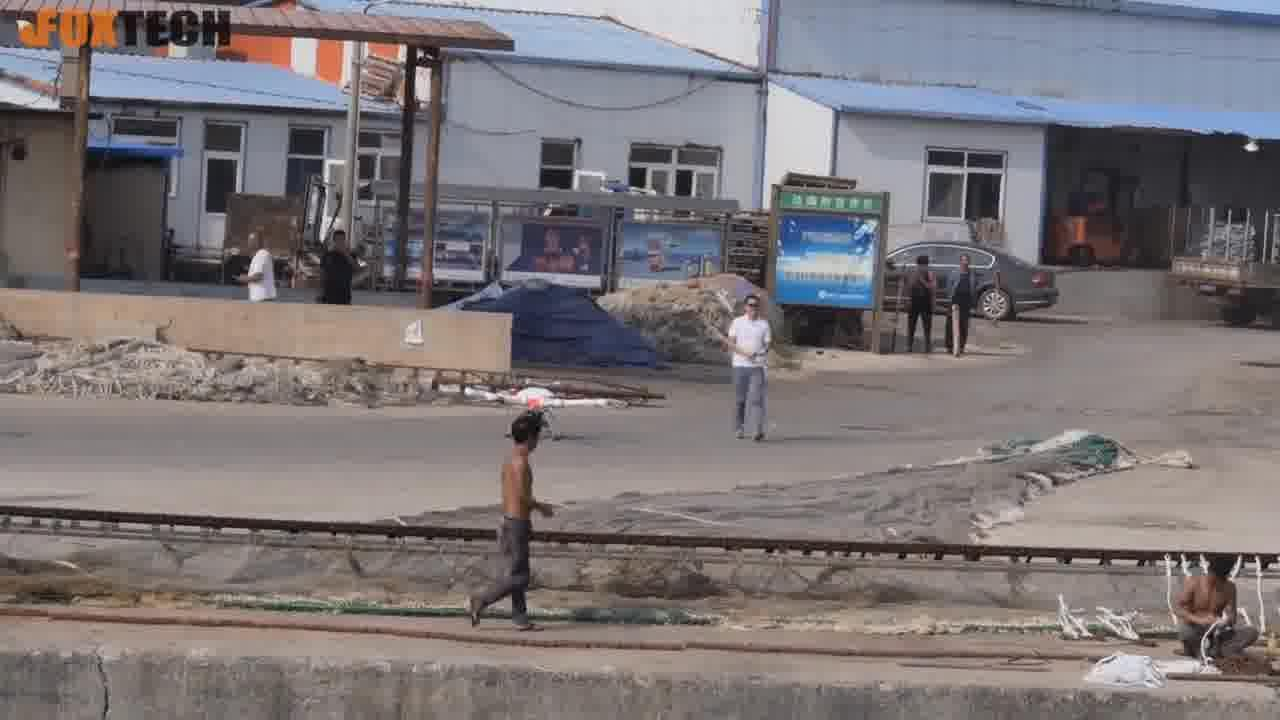Drone: (450, 373, 636, 448)
